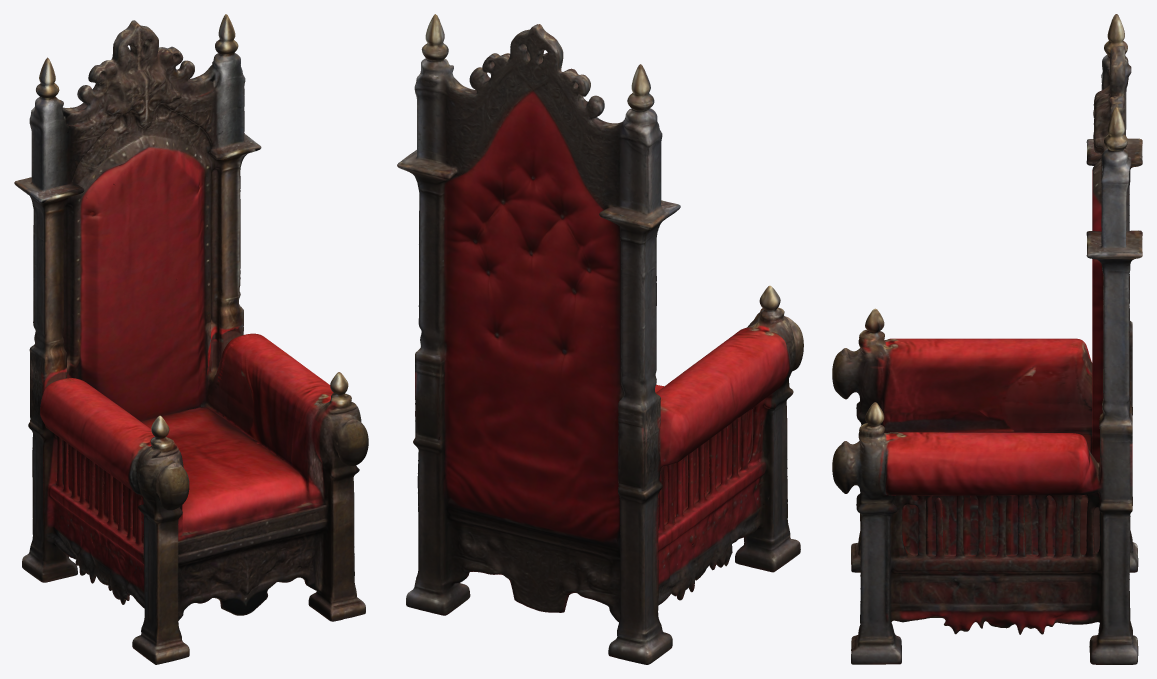
Rendered from medieval_throne_ultr_0613144908_texture.fbx.
3 renders of one model, left to right at view 1: azimuth 30°, elevation 25°; view 2: azimuth 150°, elevation 25°; view 3: azimuth 270°, elevation 25°, orthographic. The views are drawn at different scales.
Parts seen in each view (by area): view 1: Mesh1_Mesh1.024; view 2: Mesh1_Mesh1.024; view 3: Mesh1_Mesh1.024.
Part boxes in pixels (x1,y1,x2,y2): Mesh1_Mesh1.024: [14, 14, 368, 664]; Mesh1_Mesh1.024: [397, 14, 803, 664]; Mesh1_Mesh1.024: [832, 14, 1142, 664].
Size of the model in its own units: 90.76 by 201 by 100.
Materials: 1 (1 with a texture image).
